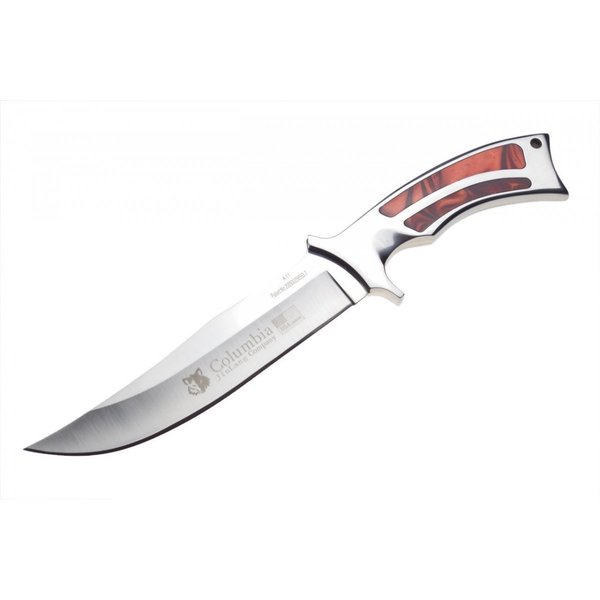knief: (20, 132, 560, 472)
